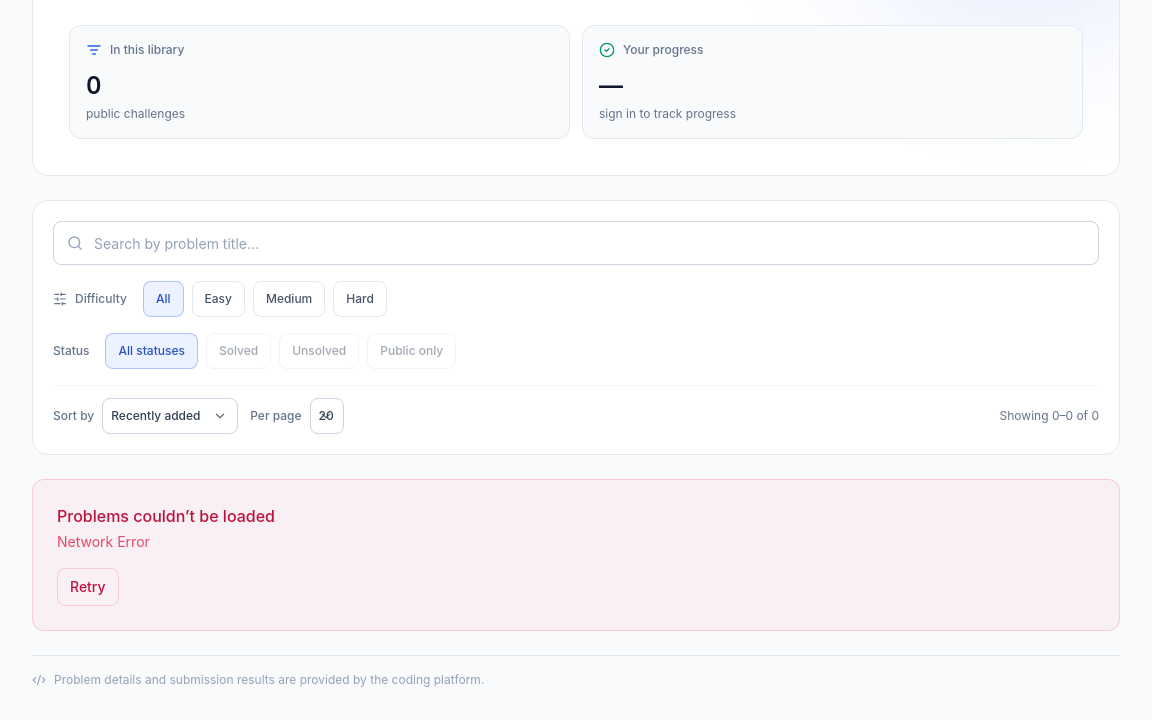
ProblemsPage › shows an error state with a retry action
This screenshot has width=1152, height=720.
(page scrolled)
Expected: the message shows "Problems couldn’t be loaded", [57,506,275,526]
Expected: the text "Network Error" is shown, [57,533,150,550]
Click the button "Retry" at (88, 587), box [57,568,119,606]
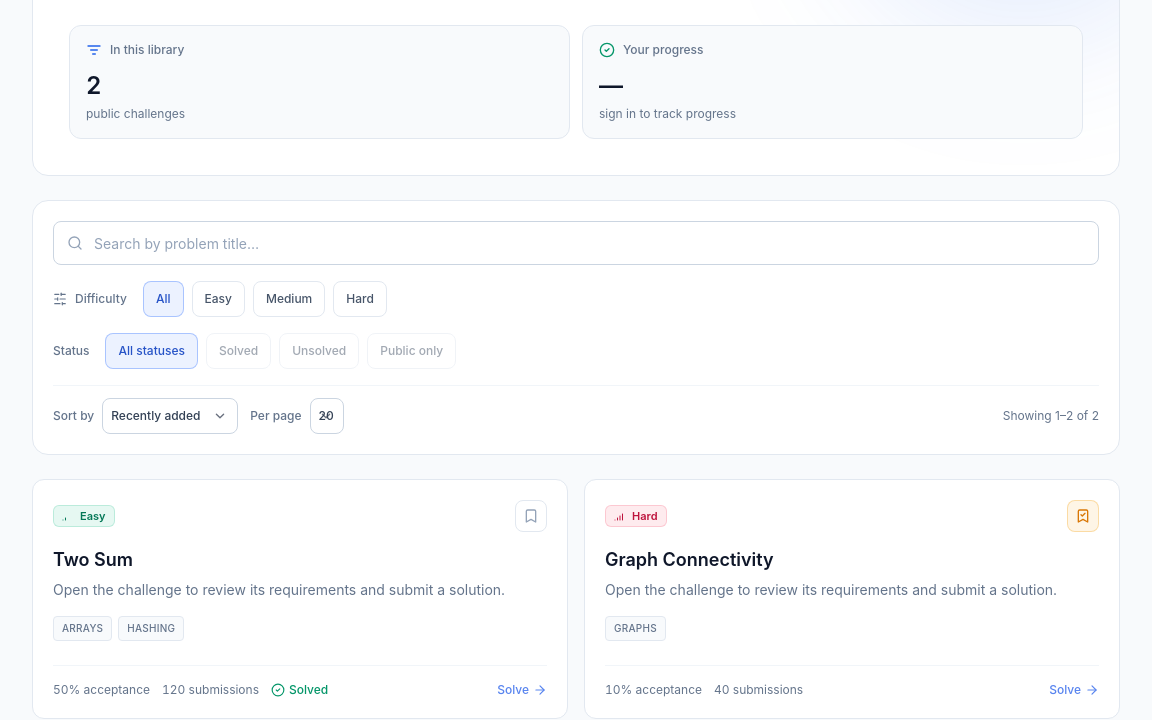
Result: the link "Two Sum" is shown at [53,549,133,570]
